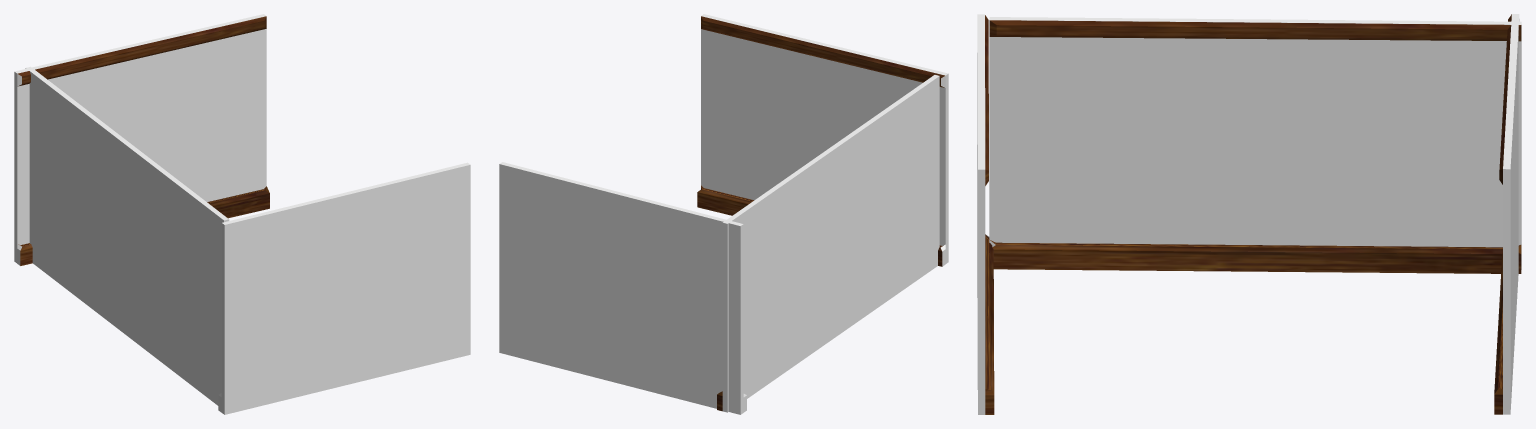
File: Room.glb
The picture shows the model from 3 angles, left to right: view 1: azimuth 30°, elevation 25°; view 2: azimuth 150°, elevation 25°; view 3: azimuth 270°, elevation 25°; orthographic projection. The views are drawn at different scales.
Parts seen in each view (by area): view 1: Cube.003, Cube.004, Cube.002; view 2: Cube.002, Cube.004, Cube.003; view 3: Cube.004, Cube.002, Cube.003.
Boxes of the visible parts, left/top/right/bottom form: Cube.003: left=218, top=162, right=470, bottom=414; Cube.004: left=25, top=66, right=229, bottom=405; Cube.002: left=14, top=14, right=269, bottom=265; Cube.002: left=499, top=162, right=746, bottom=414; Cube.004: left=717, top=75, right=939, bottom=412; Cube.003: left=697, top=14, right=948, bottom=266; Cube.004: left=989, top=17, right=1521, bottom=273; Cube.002: left=1494, top=14, right=1519, bottom=414; Cube.003: left=977, top=14, right=994, bottom=414.
Bounding box in the file's own units: 2.72 × 2 × 4.02.
Materials: 5 (2 with a texture image).
